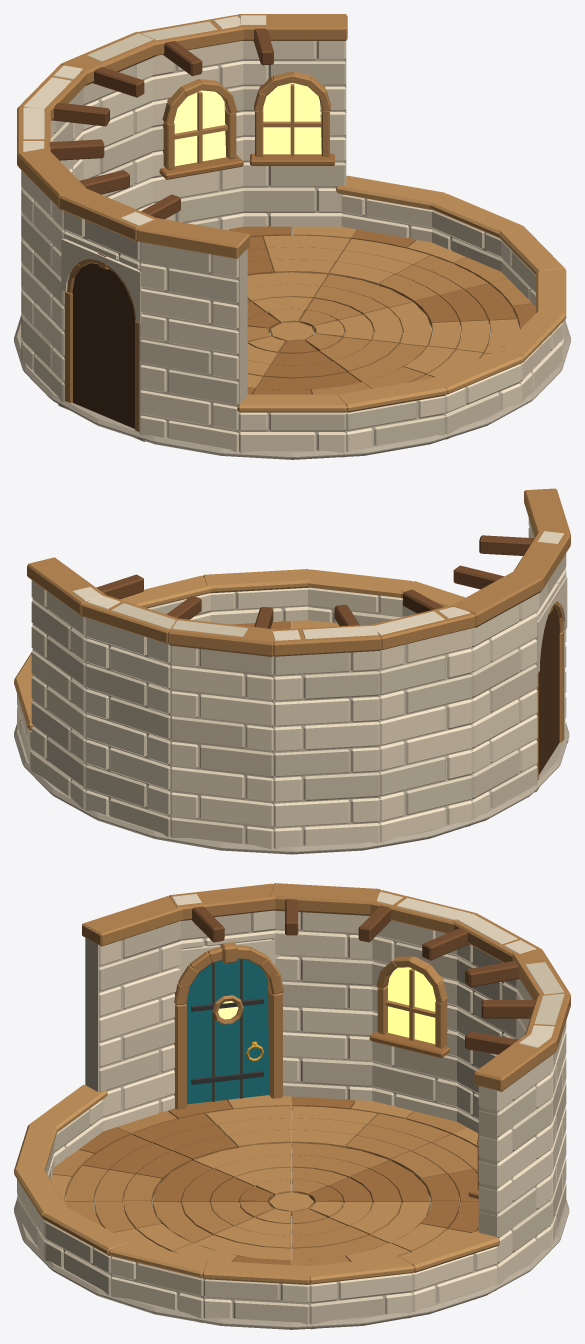
The model's file is round_cottage_interior.glb.
The picture shows the model from 3 angles, top to bottom: view 1: azimuth 30°, elevation 25°; view 2: azimuth 150°, elevation 25°; view 3: azimuth 270°, elevation 25°; orthographic projection.
Visible parts, largest first — view 1: round_cottage_interior; view 2: round_cottage_interior; view 3: round_cottage_interior, part_door_leaf.
Boxes of the visible parts, box(x1,y1,x2,y2) form: round_cottage_interior: box(14, 14, 570, 459); round_cottage_interior: box(14, 488, 570, 854); round_cottage_interior: box(14, 883, 570, 1329); part_door_leaf: box(186, 958, 269, 1104).
Size of the model in its own units: 4.99 by 2.11 by 4.99.
